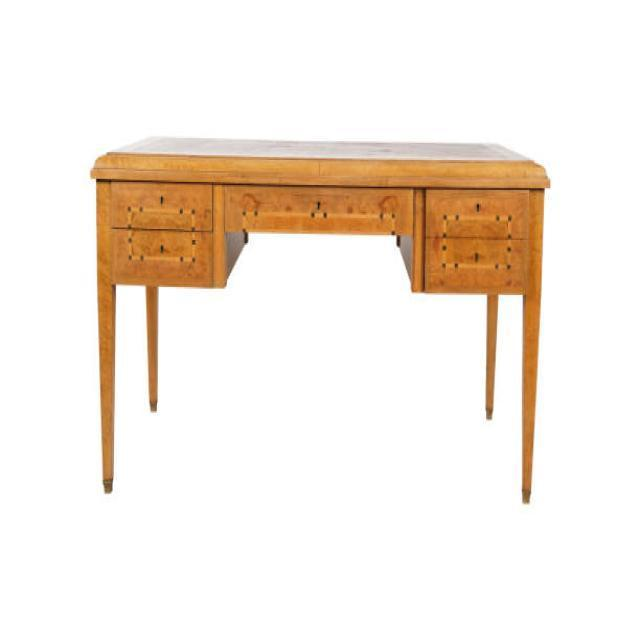table: (90, 134, 550, 503)
